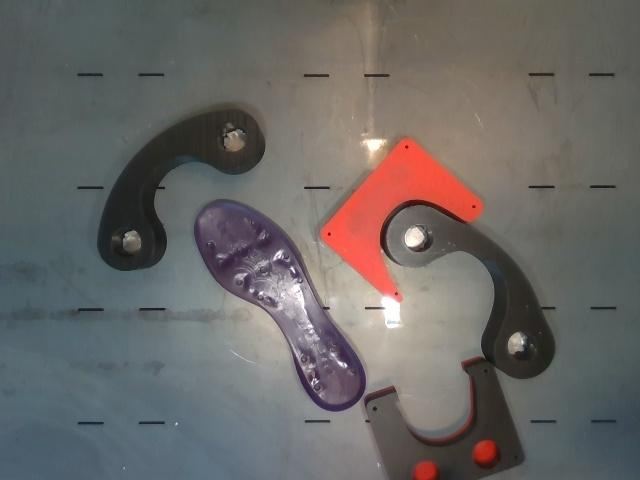shoes: (195, 200, 365, 411)
